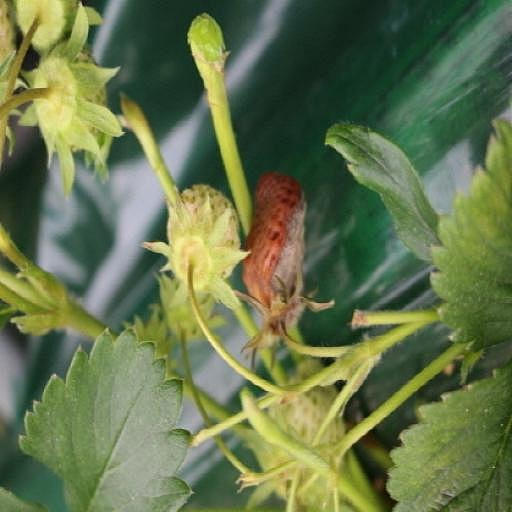Gray Mold: (177, 157, 279, 340)
